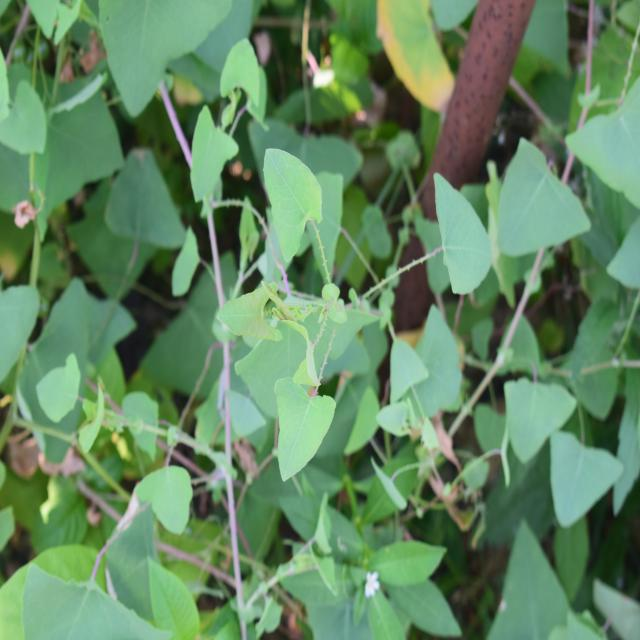Asiatic_Smartweed: (240, 132, 384, 493), (425, 138, 598, 304)
